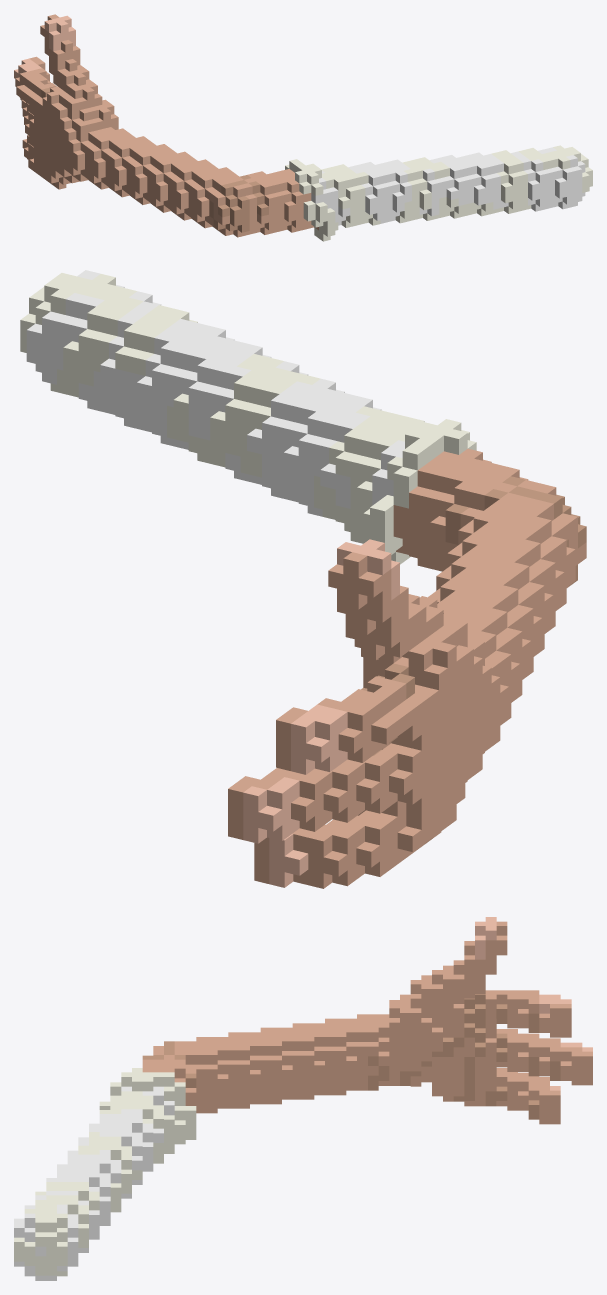
The model's file is main_gauche.obj.
3 renders of one model, top to bottom at view 1: azimuth 30°, elevation 25°; view 2: azimuth 150°, elevation 25°; view 3: azimuth 270°, elevation 25°, orthographic. The views are drawn at different scales.
Size of the model in its own units: 49 by 19 by 54.
Materials: 1 (1 with a texture image).
